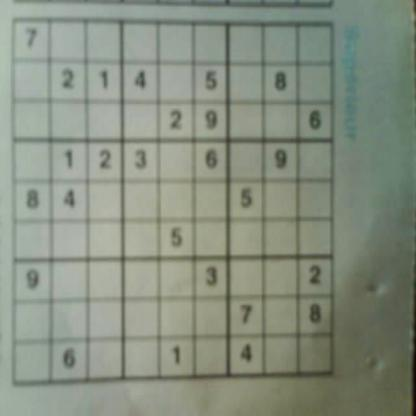sudoku: (6, 14, 342, 391)
